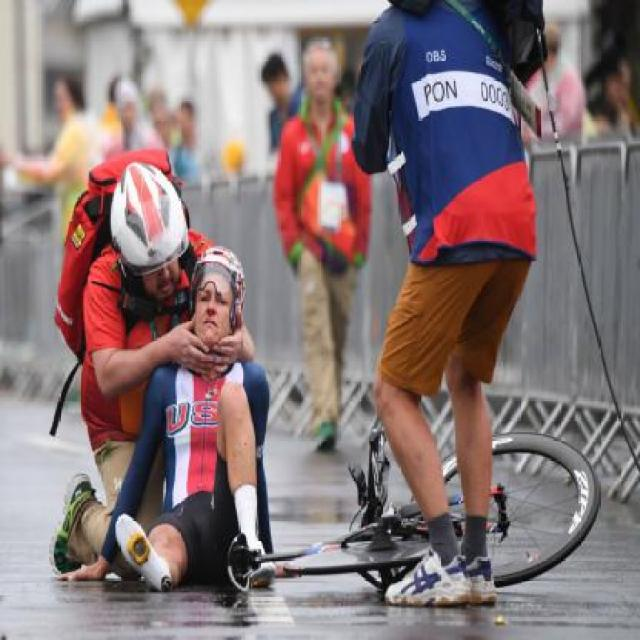fall: (59, 227, 296, 607)
